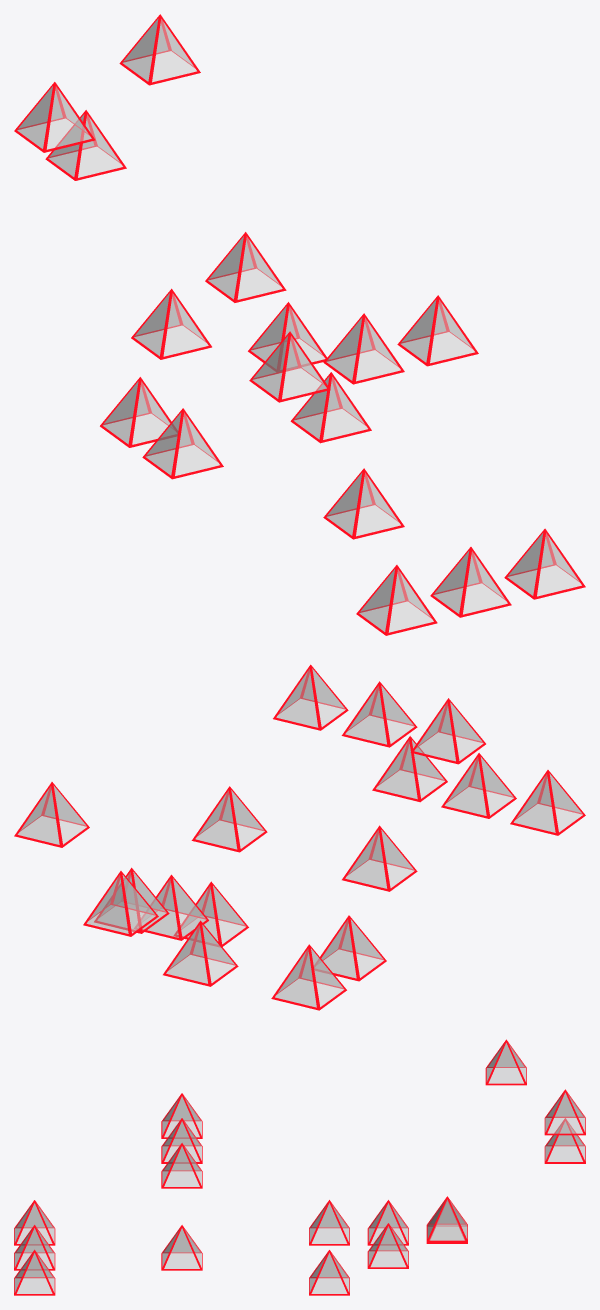
The model's file is (6)H XSpike.fbx.
The picture shows the model from 3 angles, top to bottom: view 1: azimuth 30°, elevation 25°; view 2: azimuth 150°, elevation 25°; view 3: azimuth 270°, elevation 25°; orthographic projection. The views are drawn at different scales.
Parts seen in each view (by area): view 1: Spike..016, Spike..002, Spike..003, Spike..004, Spike..007, Spike..001, Spike..005, Spike..006, Spike..010, Spike..012, Spike..013, Spike..008 (+4 smaller); view 2: Spike..004, Spike..013, Spike..016, Spike..006, Spike..001, Spike..005, Spike..015, Spike..002, Spike..007, Spike..012, Spike..014, Spike..003 (+4 smaller); view 3: Spike..010, Spike..012, Spike..016, Spike..003, Spike..007, Spike..006, Spike..011, Spike..009, Spike..008, Spike..014, Spike..005, Spike..004 (+4 smaller).
Boxes of the visible parts, x1,y1,x2,y2 form: Spike..016: (14,82,95,152); Spike..002: (430,547,511,617); Spike..003: (504,528,585,599); Spike..004: (249,331,330,402); Spike..007: (323,468,404,539); Spike..001: (356,565,437,635); Spike..005: (323,313,404,384); Spike..006: (397,295,478,366); Spike..010: (205,232,286,302); Spike..012: (119,14,200,85); Spike..013: (131,288,211,359); Spike..008: (142,408,223,479); Spike..004: (410,698,485,764); Spike..013: (163,920,238,986); Spike..016: (191,786,267,852); Spike..006: (273,664,348,730); Spike..001: (510,770,585,835); Spike..005: (341,681,417,747); Spike..015: (271,944,346,1010); Spike..002: (441,753,516,818); Spike..007: (342,825,417,891); Spike..012: (14,782,89,847); Spike..014: (83,871,158,936); Spike..003: (372,736,447,802); Spike..010: (426,1196,467,1242); Spike..012: (544,1089,585,1135); Spike..016: (485,1039,526,1085); Spike..003: (14,1249,55,1295); Spike..007: (161,1225,202,1270); Spike..006: (161,1143,202,1188); Spike..011: (367,1223,408,1268); Spike..009: (309,1250,349,1295); Spike..008: (309,1200,349,1245); Spike..014: (544,1118,585,1163); Spike..005: (161,1118,202,1163); Spike..004: (161,1093,202,1138).
Size of the model in its own units: 540 by 740 by 1940.
